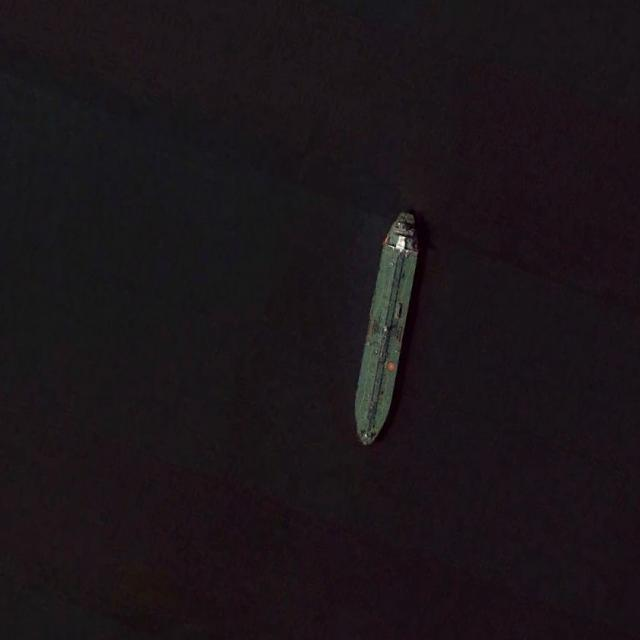ship: (350, 209, 421, 446)
